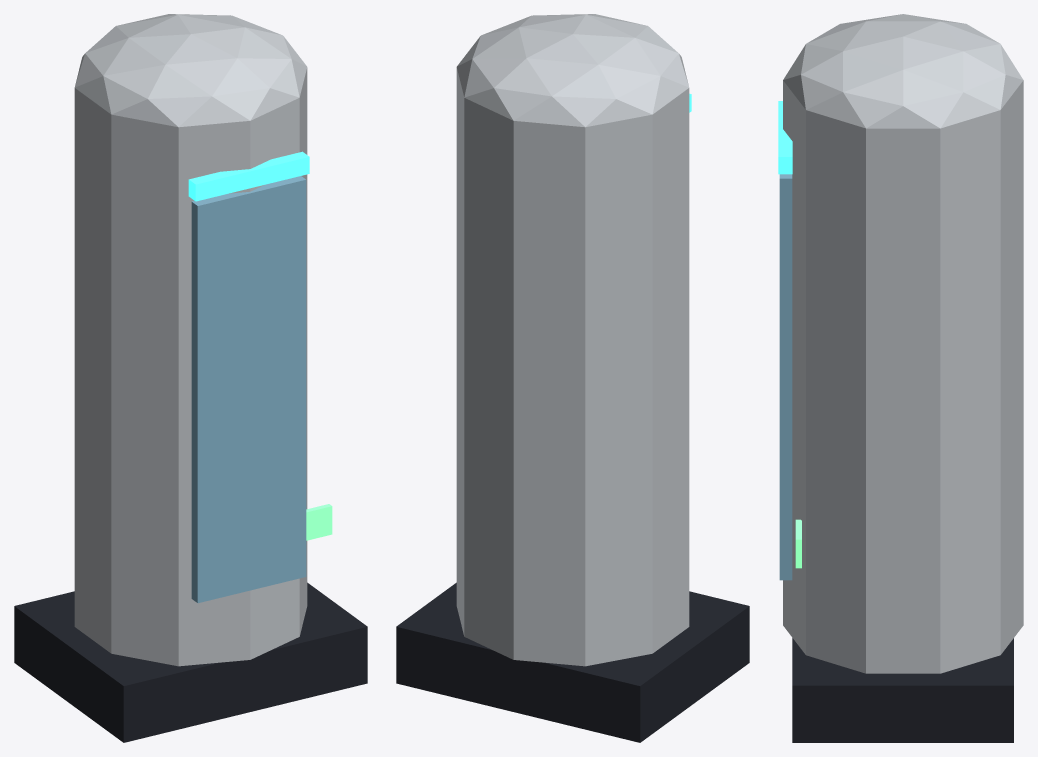
Rendered from cryo_pod.glb.
3 views of the same model, side by side, from view 1: azimuth 30°, elevation 25°; view 2: azimuth 150°, elevation 25°; view 3: azimuth 270°, elevation 25° (orthographic).
Parts seen in each view (by area): view 1: cryo_pod; view 2: cryo_pod; view 3: cryo_pod.
Part boxes in pixels (x1,y1,x2,y2): cryo_pod: (14,14,367,742); cryo_pod: (396,14,749,742); cryo_pod: (778,14,1023,742).
Size of the model in its own units: 0.9 by 2.25 by 0.7745.
